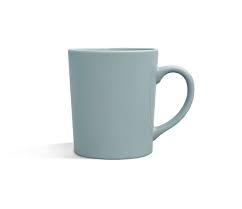cup: (69, 48, 193, 158)
